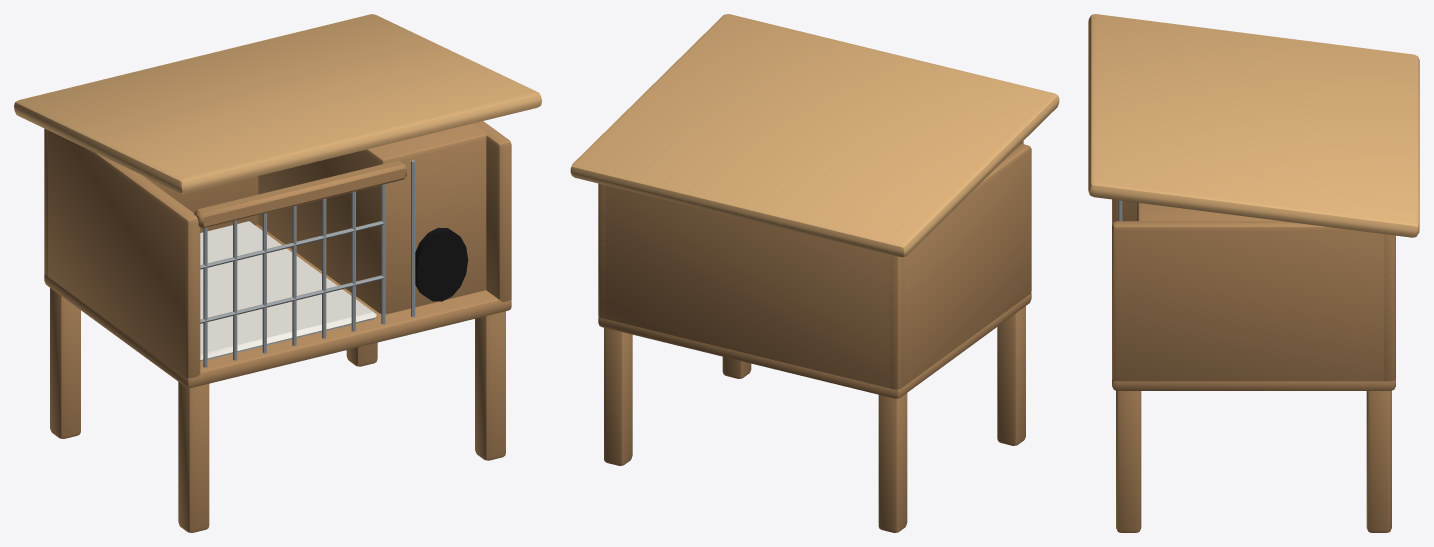
Rendered from pet_cage.glb.
3 views of the same model, side by side, from view 1: azimuth 30°, elevation 25°; view 2: azimuth 150°, elevation 25°; view 3: azimuth 270°, elevation 25° (orthographic). The views are drawn at different scales.
Parts seen in each view (by area): view 1: crate, pine, sheet, galv, dark; view 2: crate, pine; view 3: pine, crate.
Boxes of the visible parts, bbox=[...] form: crate: bbox=[44, 121, 511, 532]; pine: bbox=[14, 14, 541, 193]; sheet: bbox=[200, 221, 376, 361]; galv: bbox=[200, 160, 415, 367]; dark: bbox=[415, 227, 468, 301]; crate: bbox=[598, 141, 1031, 532]; pine: bbox=[570, 14, 1059, 257]; pine: bbox=[1088, 14, 1419, 237]; crate: bbox=[1112, 199, 1395, 532].
Bounding box in the file's own units: 0.98 × 0.9534 × 0.7936.
